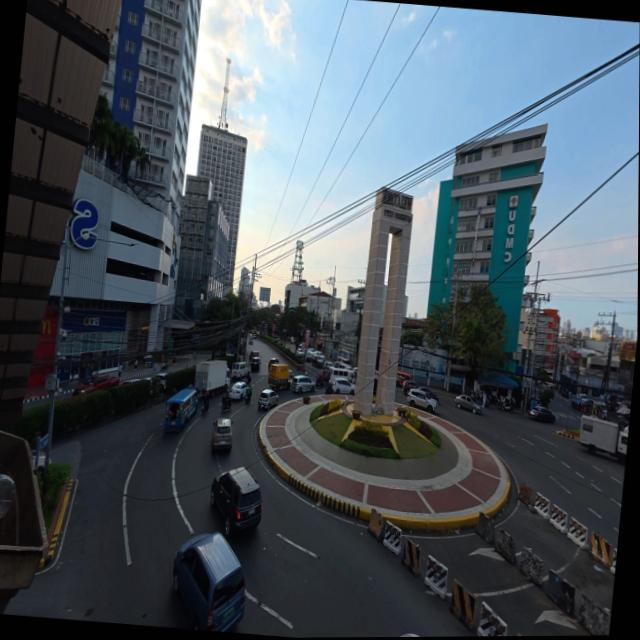Jeepneys: (163, 389, 197, 432), (395, 371, 412, 387)
car: (173, 533, 245, 631), (209, 467, 261, 536), (72, 373, 119, 395), (406, 388, 436, 413), (211, 418, 231, 451), (455, 395, 481, 413), (330, 376, 354, 395), (528, 406, 555, 422), (257, 389, 277, 410), (290, 375, 314, 392), (228, 381, 246, 400), (590, 401, 606, 419), (420, 387, 438, 402), (315, 370, 330, 387), (153, 373, 167, 389), (402, 381, 419, 394), (311, 355, 323, 368), (250, 357, 260, 371), (322, 361, 333, 370), (267, 358, 278, 366), (304, 350, 311, 362), (295, 349, 303, 358), (307, 349, 315, 356), (400, 634, 417, 636), (248, 337, 252, 345), (289, 337, 294, 343)
motorcycle: (220, 397, 231, 412), (471, 390, 482, 402), (315, 376, 326, 387), (500, 402, 512, 412), (201, 398, 208, 414), (324, 383, 331, 395), (245, 394, 251, 404), (160, 362, 167, 370), (245, 374, 250, 384)
trucks: (579, 416, 627, 463), (194, 360, 229, 393), (267, 363, 288, 390)
vans: (322, 366, 352, 377), (230, 362, 247, 379)
